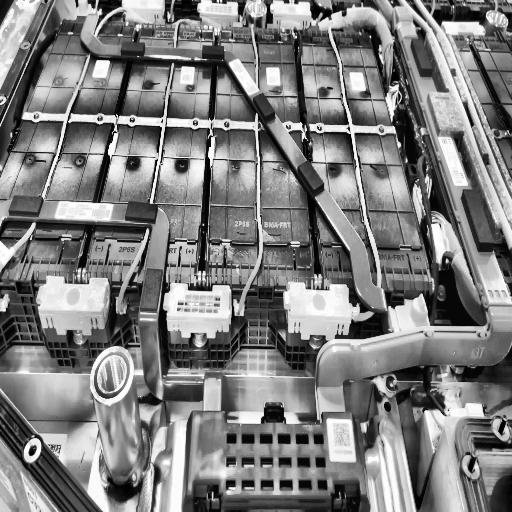busbar: (80, 12, 389, 315), (314, 6, 512, 419), (0, 196, 224, 416)
high_volt_cable: (0, 1, 125, 273), (115, 15, 191, 313), (324, 18, 388, 329), (393, 39, 440, 294), (236, 11, 267, 321)
